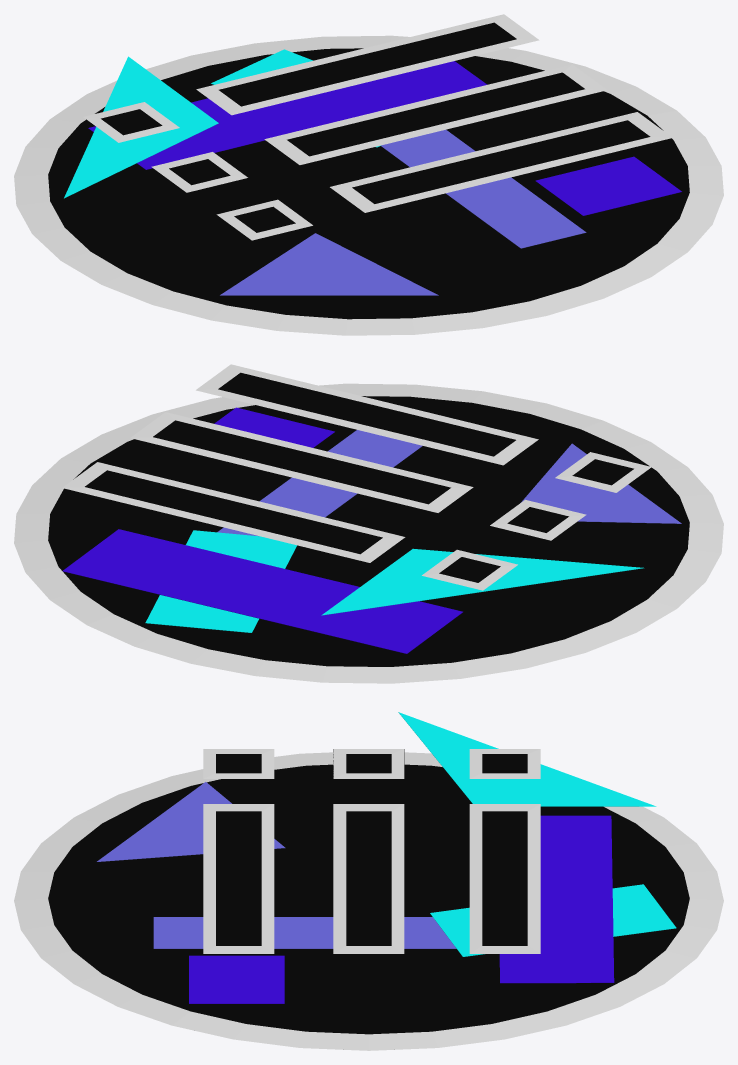
The model's file is bouttonMenu.fbx.
3 views of the same model, one above another, from view 1: azimuth 30°, elevation 25°; view 2: azimuth 150°, elevation 25°; view 3: azimuth 270°, elevation 25° (orthographic).
Visible parts, largest first — view 1: Cylindre.001, Cube.008, Cube.010, Cube.012, Cube.003, Cube.004, Cube.006, Cube.007, Cube.005, Cube.001, Cube.009, Cube.011 (+1 smaller); view 2: Cylindre.001, Cube.003, Cube.008, Cube.012, Cube.010, Cube.007, Cube.002, Cube.004, Cube.006, Cube.005, Cube.001, Cube.009 (+1 smaller); view 3: Cylindre.001, Cube.003, Cube.008, Cube.010, Cube.012, Cube.007, Cube.006, Cube.005, Cube.004, Cube.002, Cube.001, Cube.009 (+1 smaller).
Part boxes in pixels (bbox=[...]): Cylindre.001: bbox=[14, 35, 723, 335]; Cube.008: bbox=[196, 14, 539, 115]; Cube.010: bbox=[264, 64, 607, 164]; Cube.012: bbox=[330, 112, 672, 212]; Cube.003: bbox=[88, 61, 487, 169]; Cube.004: bbox=[220, 233, 438, 295]; Cube.006: bbox=[381, 129, 586, 248]; Cube.007: bbox=[64, 56, 218, 198]; Cube.005: bbox=[535, 156, 681, 215]; Cube.001: bbox=[151, 152, 247, 192]; Cube.009: bbox=[216, 199, 312, 240]; Cube.011: bbox=[83, 102, 179, 142]; Cylindre.001: bbox=[14, 383, 723, 683]; Cube.003: bbox=[62, 529, 462, 653]; Cube.008: bbox=[62, 462, 405, 562]; Cube.012: bbox=[196, 364, 538, 465]; Cube.010: bbox=[130, 412, 473, 512]; Cube.007: bbox=[321, 548, 644, 615]; Cube.002: bbox=[145, 530, 296, 632]; Cube.004: bbox=[521, 443, 681, 523]; Cube.006: bbox=[217, 430, 422, 536]; Cube.005: bbox=[214, 407, 334, 447]; Cube.001: bbox=[490, 499, 586, 540]; Cube.009: bbox=[555, 452, 651, 492]; Cylindre.001: bbox=[14, 752, 723, 1050]; Cube.003: bbox=[499, 815, 614, 983]; Cube.008: bbox=[469, 804, 540, 953]; Cube.010: bbox=[333, 804, 404, 953]; Cube.012: bbox=[203, 804, 274, 953]; Cube.007: bbox=[398, 712, 656, 806]; Cube.006: bbox=[153, 917, 456, 948]; Cube.005: bbox=[189, 955, 284, 1003]; Cube.004: bbox=[97, 782, 285, 861]; Cube.002: bbox=[430, 884, 676, 956]; Cube.001: bbox=[333, 749, 404, 778]; Cube.009: bbox=[203, 749, 274, 778].
Bounding box in the file's own units: 600 × 51.12 × 600.
